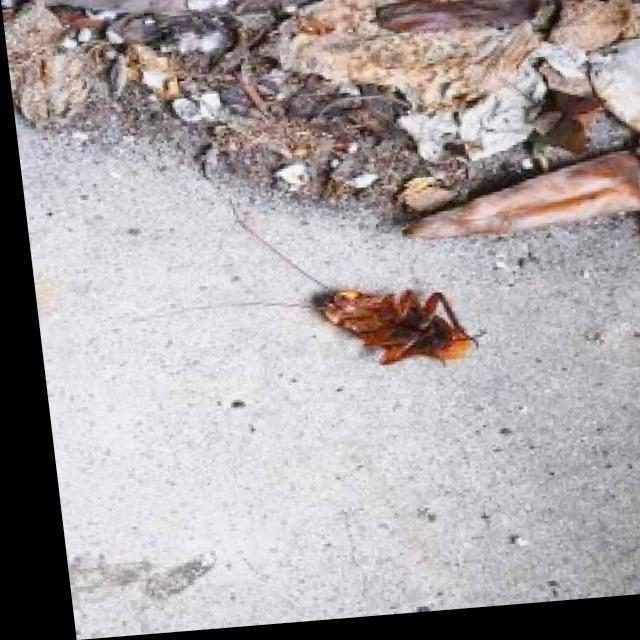cockroach: (311, 281, 483, 371)
